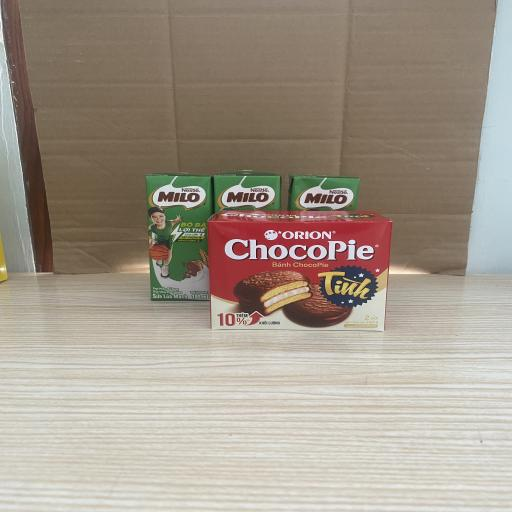chocopie: (208, 210, 392, 331)
milo: (145, 172, 214, 301), (214, 170, 282, 212), (287, 174, 360, 210)
